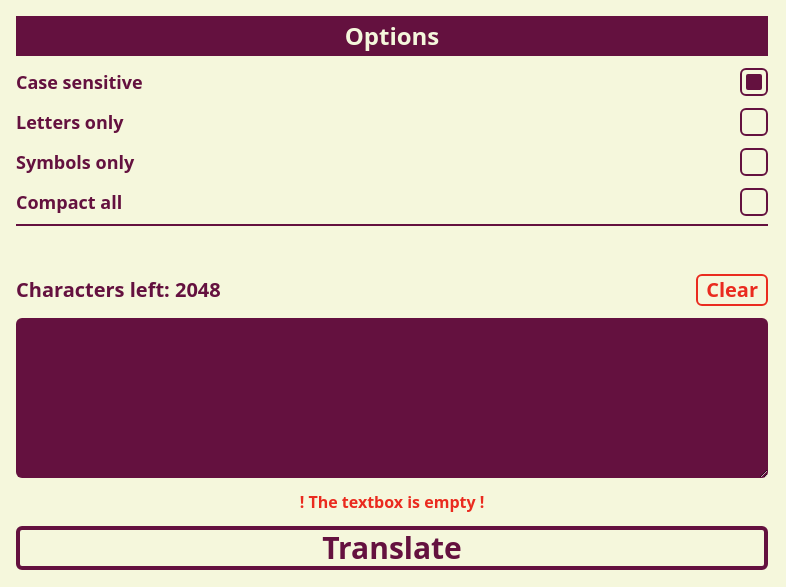
Test: Parsing options › should disable conflict options when checked › symbolsOnly
Step 1. Click the checkbox named "Symbols only" in the row of "Symbols only" → [754, 162], box [740,148,768,176]
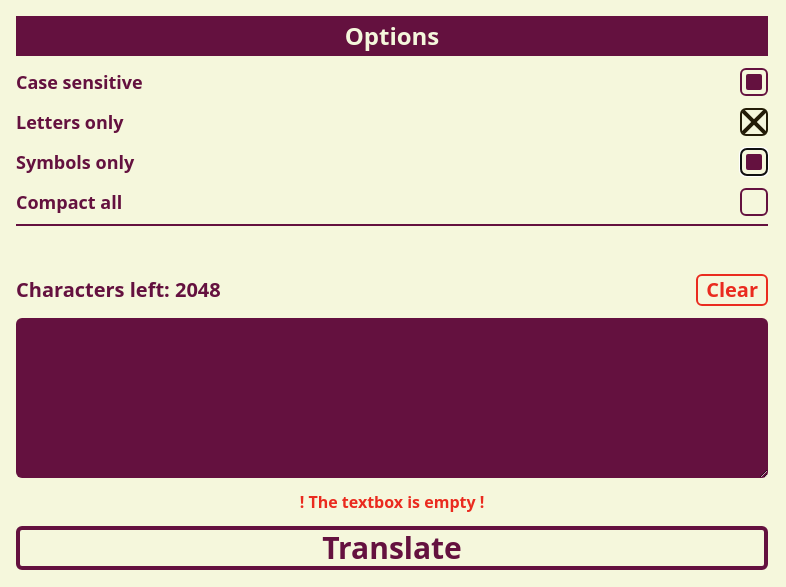
expect the checkbox named "Letters only" in the row of "Letters only" is disabled: met, box [740,108,768,136]
